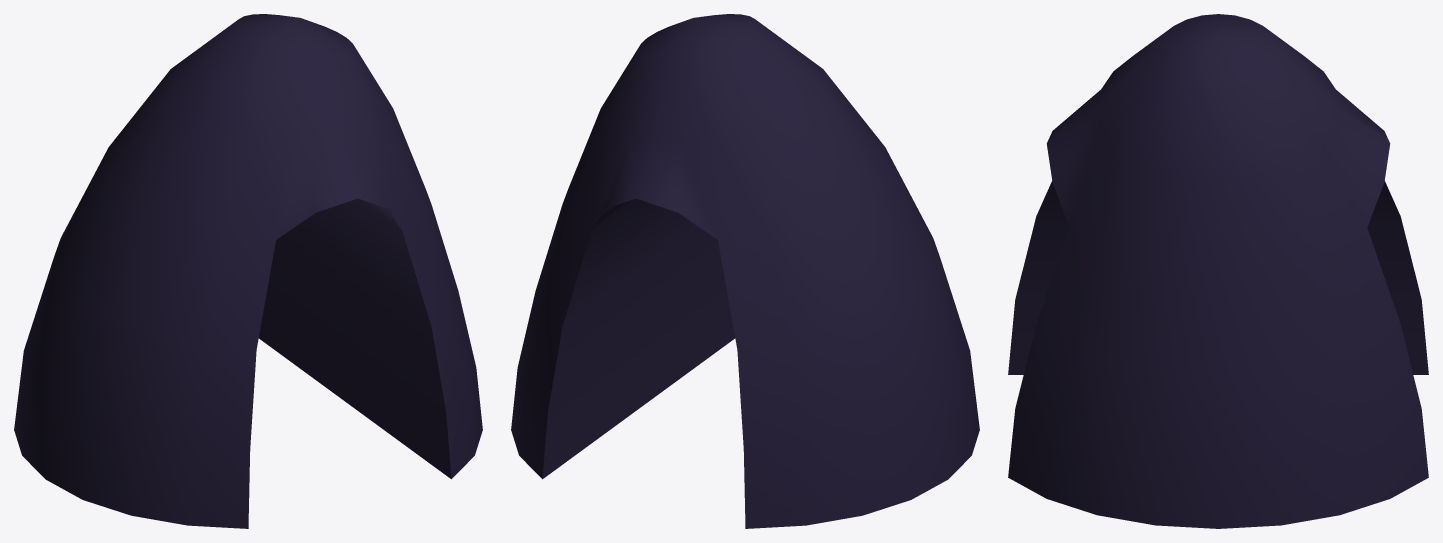
File: Back_Bldg04_Mesh.FBX
3 renders of one model, left to right at view 1: azimuth 30°, elevation 25°; view 2: azimuth 150°, elevation 25°; view 3: azimuth 270°, elevation 25°, orthographic. The views are drawn at different scales.
Parts seen in each view (by area): view 1: Back_Bldg04_Mesh; view 2: Back_Bldg04_Mesh; view 3: Back_Bldg04_Mesh.
Part boxes in pixels (box(x1,y1,x2,y2)): Back_Bldg04_Mesh: box(14, 14, 482, 528); Back_Bldg04_Mesh: box(511, 14, 979, 528); Back_Bldg04_Mesh: box(1008, 14, 1428, 528).
Bounding box in the file's own units: 4426 × 4160 × 3833.
